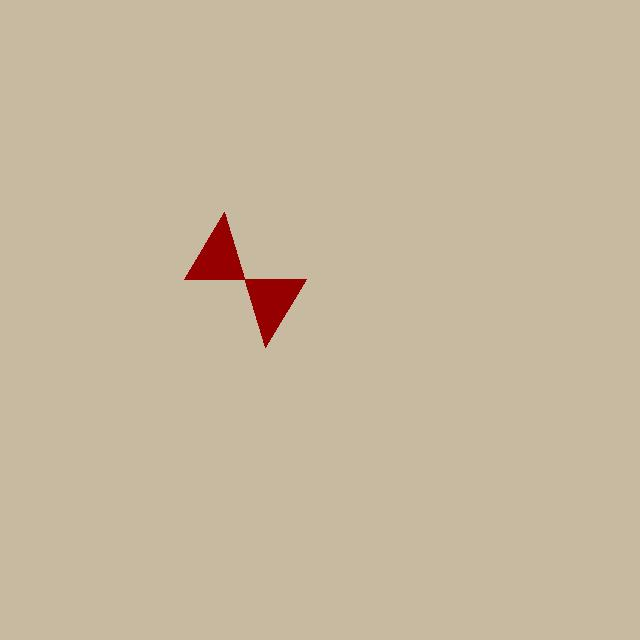laceration: (184, 212, 306, 347)
